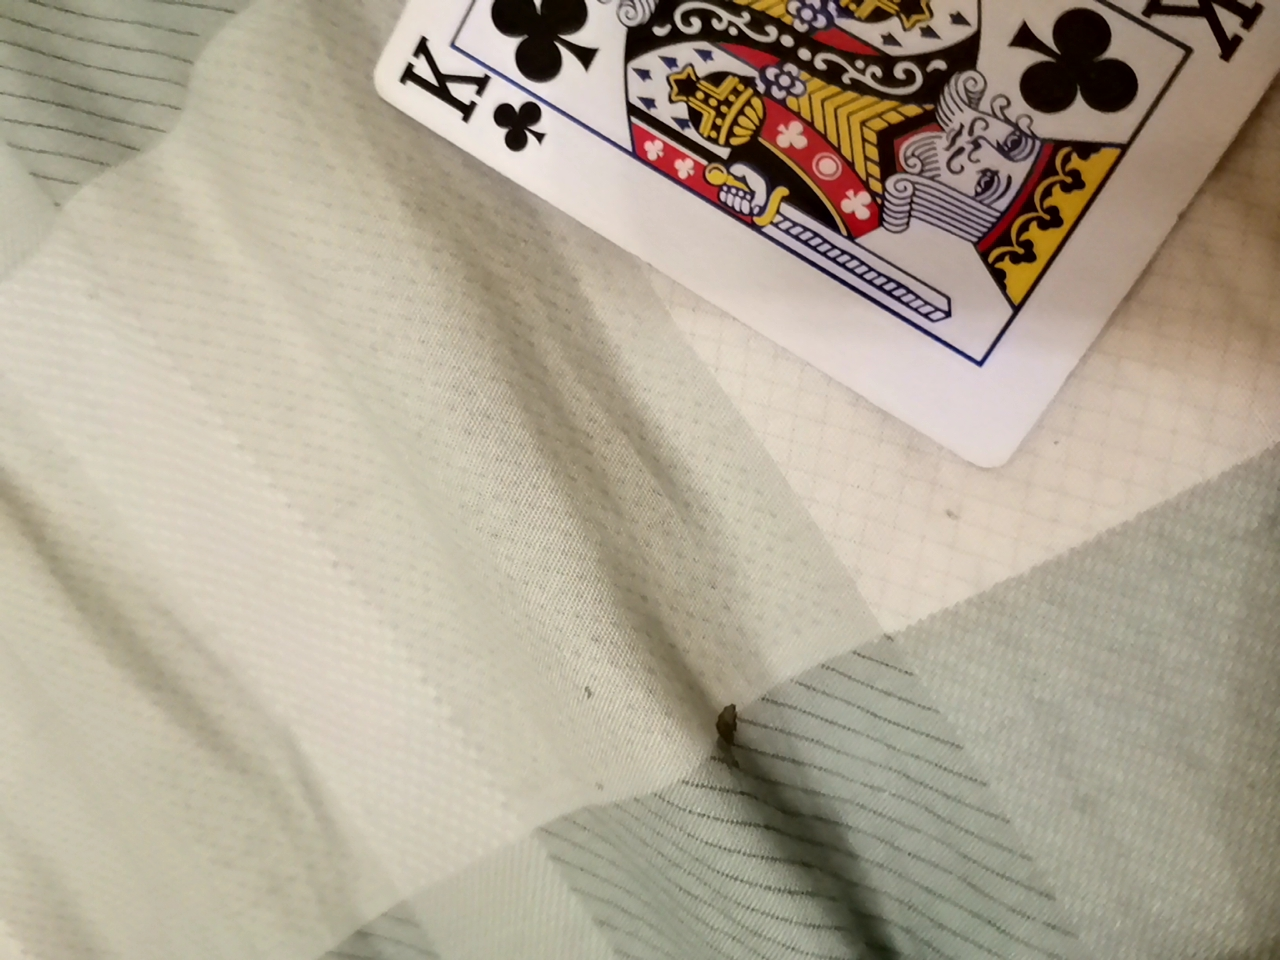mh k: (354, 1, 1268, 469)
